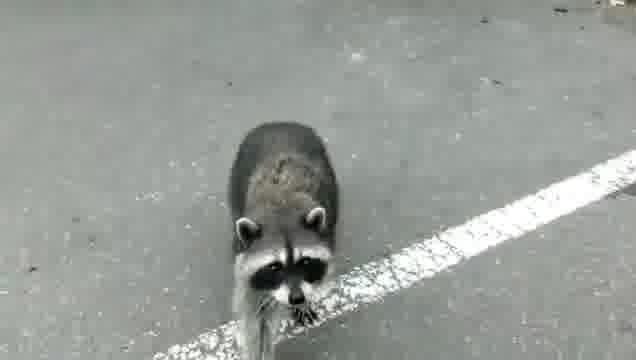raccoon: (227, 119, 342, 360)
